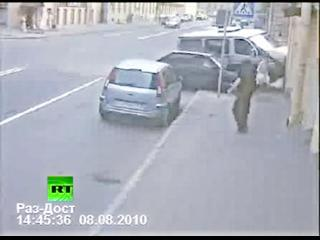Car: (98, 57, 182, 127), (178, 34, 280, 84), (167, 53, 233, 92), (165, 16, 181, 28), (159, 14, 170, 25), (180, 13, 193, 22)
Major Accident: (167, 30, 286, 92)
